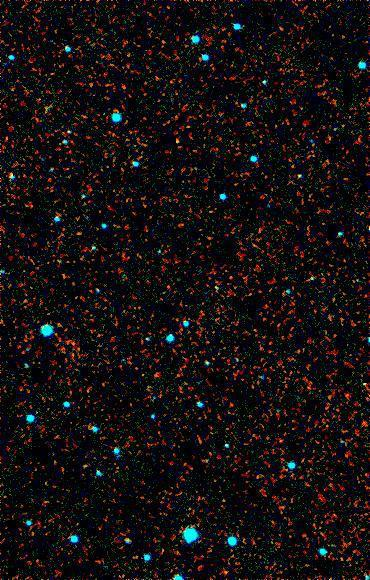star: (162, 127, 192, 157)
